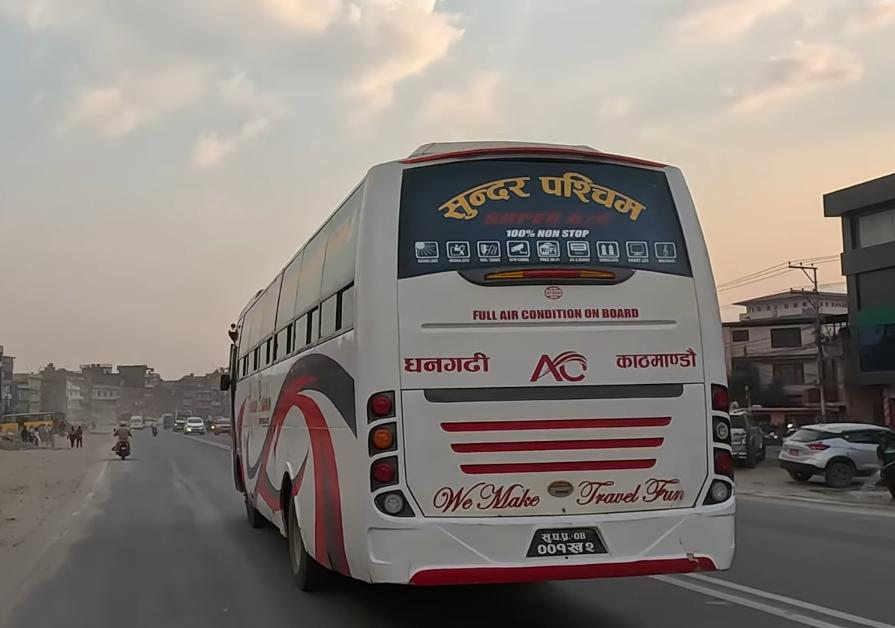bus: (180, 97, 755, 588)
